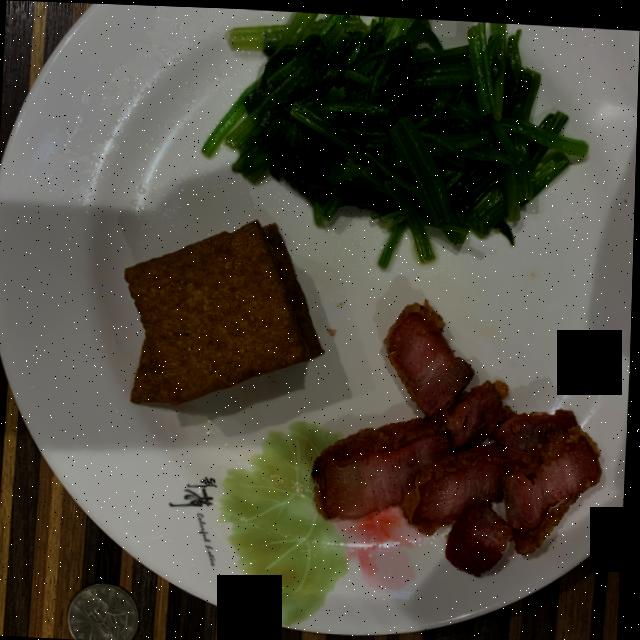coin: (71, 581, 142, 640)
egg tofu: (126, 217, 325, 403)
mustard greens: (204, 9, 588, 262)
red grilled pork: (314, 298, 603, 572)
